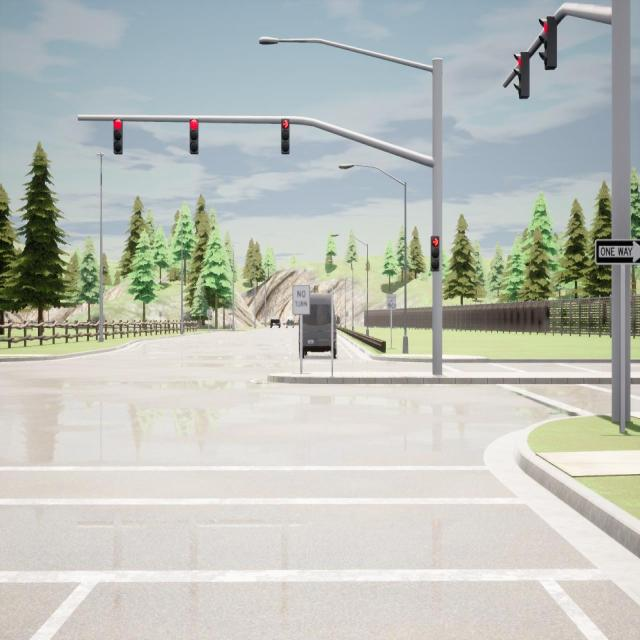Traffic_Signs: (594, 239, 640, 264), (292, 286, 310, 314), (387, 294, 396, 310)
Vehicle: (297, 294, 340, 358), (286, 318, 294, 329), (270, 320, 280, 328)
traffic_light: (540, 16, 556, 70), (514, 51, 530, 99), (114, 119, 122, 155), (431, 236, 439, 272), (190, 119, 198, 154), (282, 119, 290, 154)
